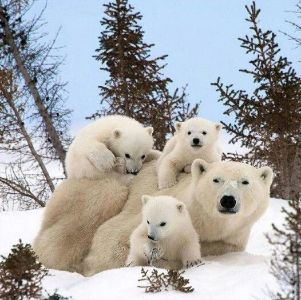bear: (187, 156, 279, 254), (63, 107, 154, 175), (127, 193, 205, 270), (156, 114, 223, 189)
